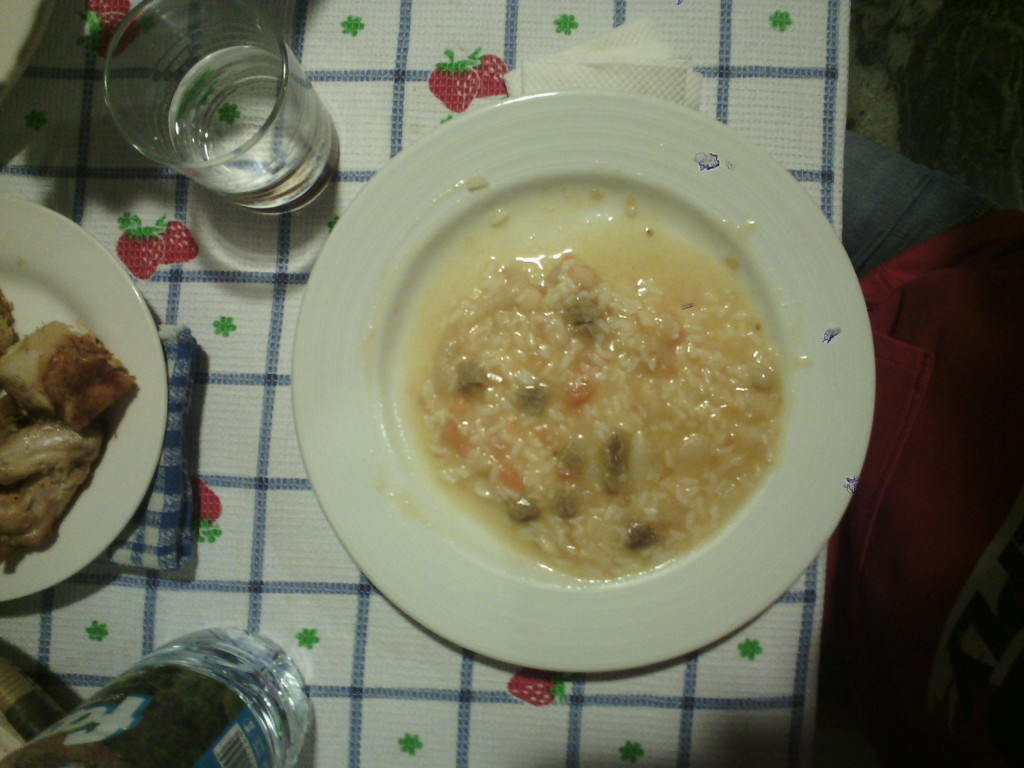41-60: (298, 93, 876, 676)
